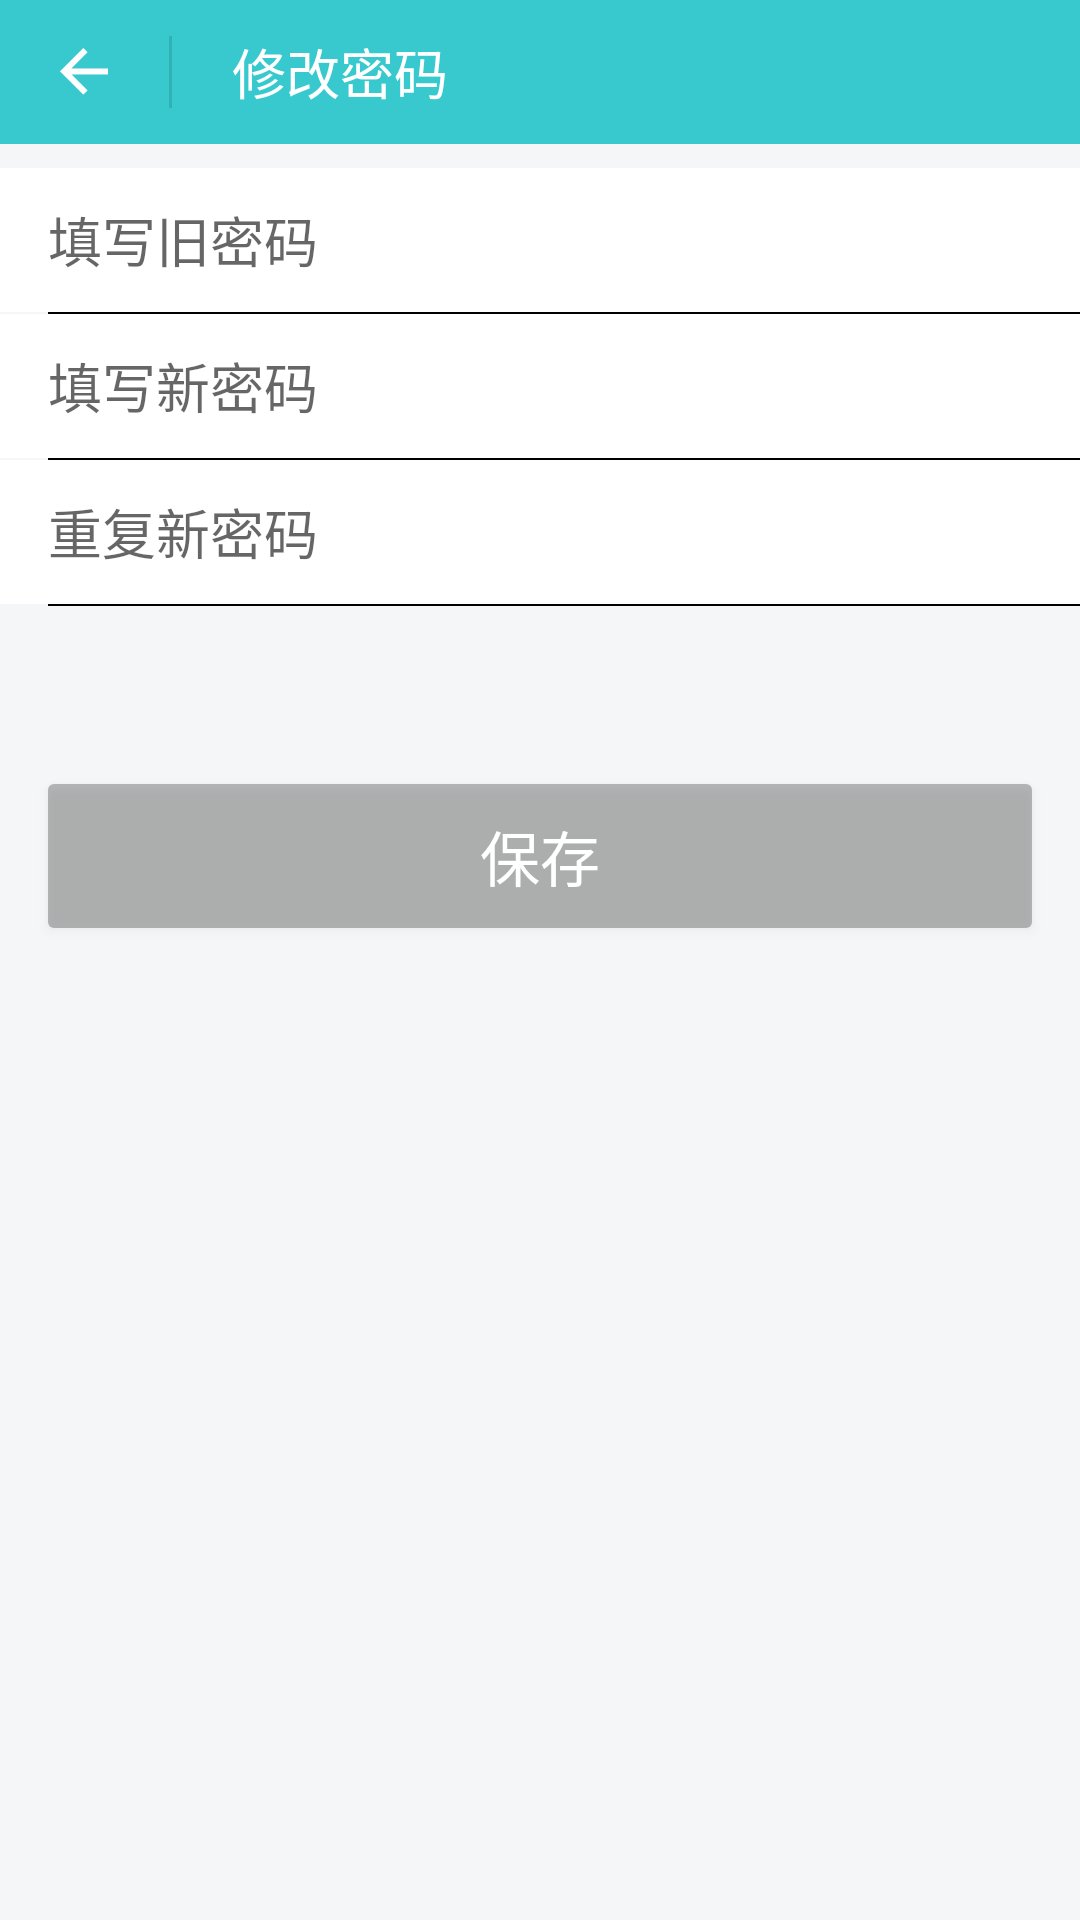

Screen size 1080x1920. Icon name, then its center in pixels as (x=x, y=y):
exit: (x=84, y=71)
